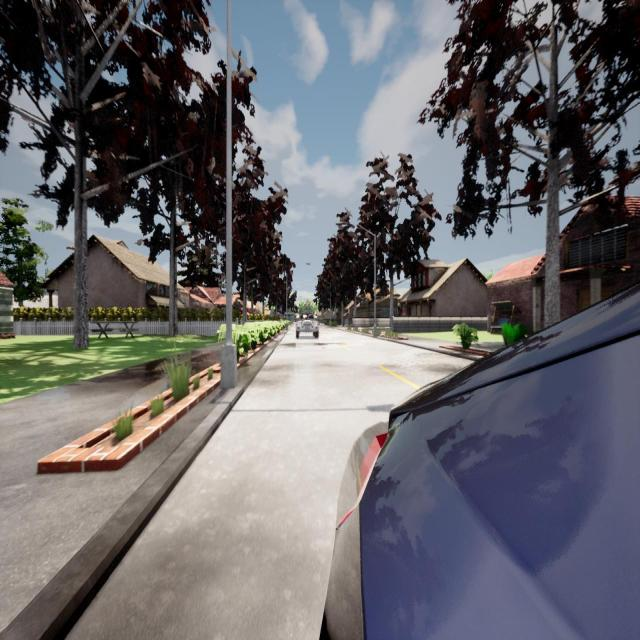Vehicle: (321, 282, 640, 640), (295, 311, 320, 338)
